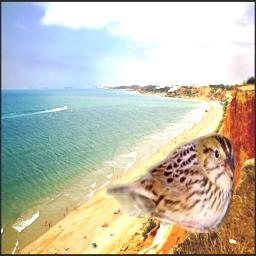Sparrow: (106, 132, 236, 233)
